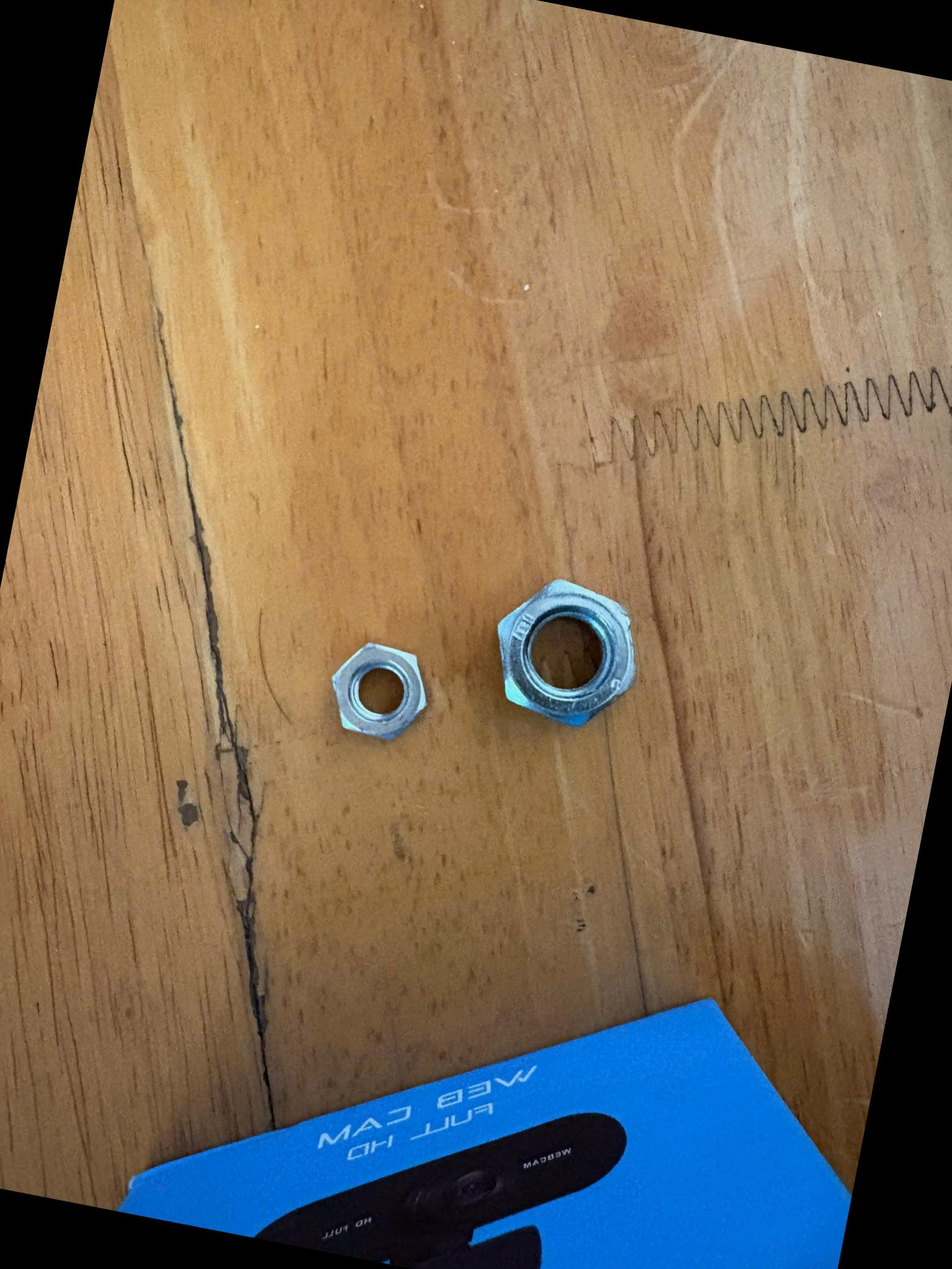nut: (470, 556, 657, 749), (312, 623, 439, 770)
